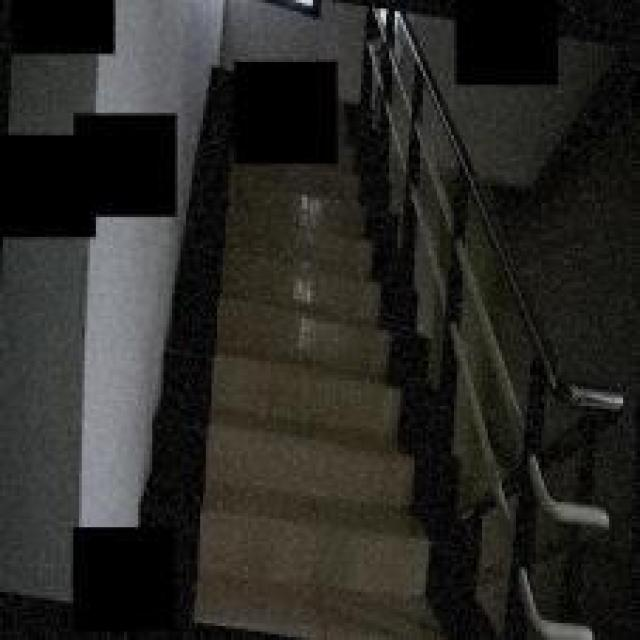upstair: (187, 202, 466, 636)
